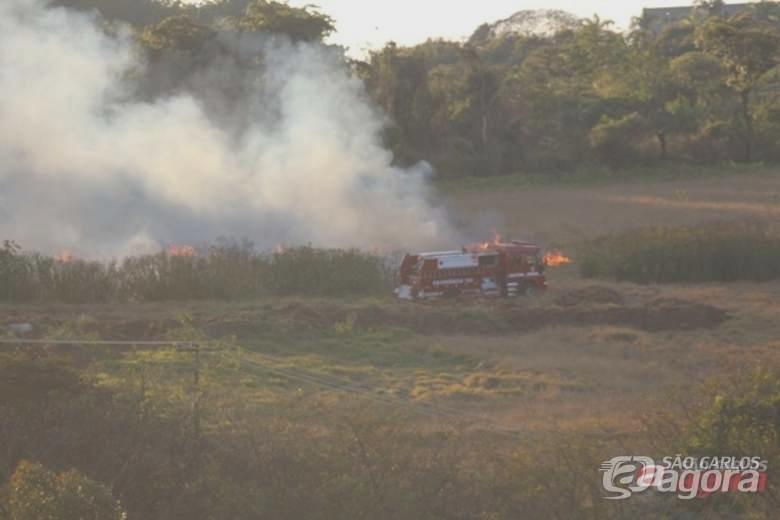smoke: (29, 121, 432, 266), (11, 11, 100, 101)
